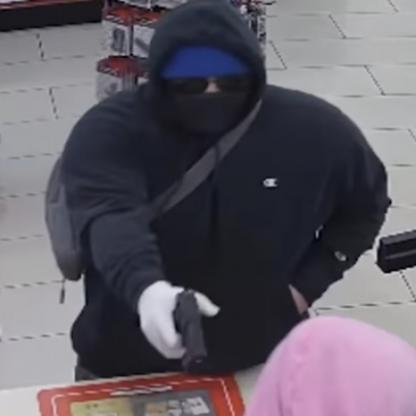criminal: (44, 0, 392, 384)
weapon: (172, 287, 210, 378)
